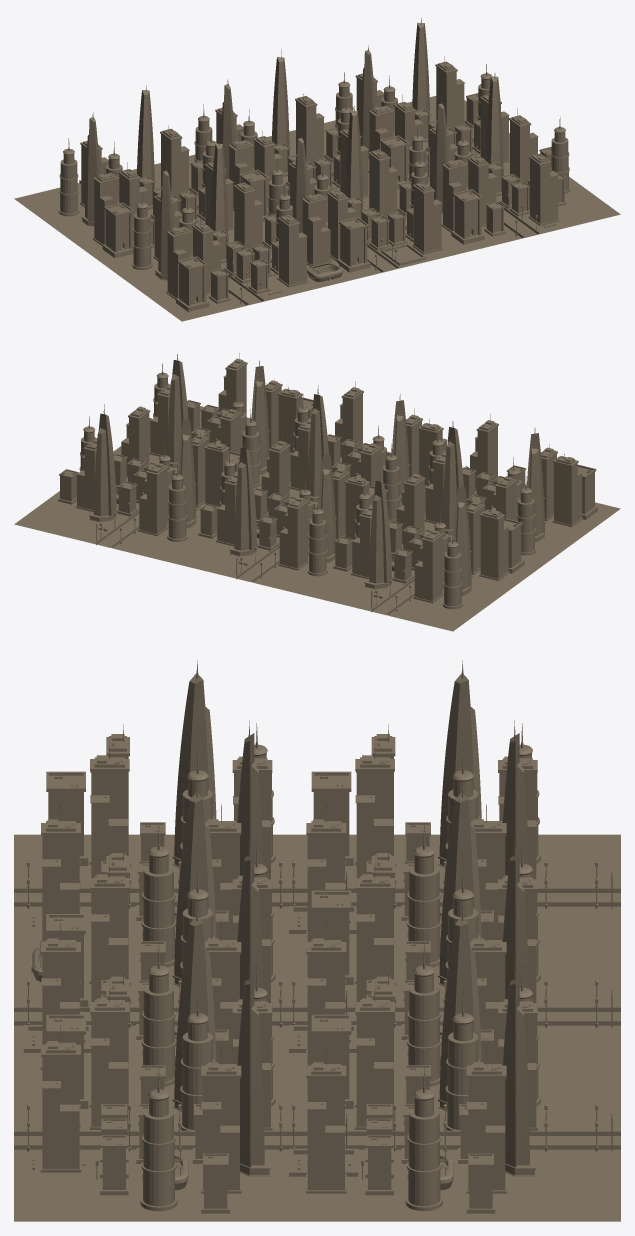
File: scenebackground.fbx
3 views of the same model, one above another, from view 1: azimuth 30°, elevation 25°; view 2: azimuth 150°, elevation 25°; view 3: azimuth 270°, elevation 25° (orthographic). The views are drawn at different scales.
Visible parts, largest first — view 1: pasted__pPlane1 (×6), pasted__pCube5 (×6), pasted__pCube6 (×6), pasted__skyscraper (×6), pasted__polySurface86 (×6), pasted__pCube12 (×6), pasted__skyscraper2 (×6), pasted__pCube2 (×6), pasted__pCylinder4 (×6), pasted__pCube4 (×5), pasted__polySurface85 (×3), pasted__polySurface79 (×3) (+3 smaller); view 2: pasted__pPlane1 (×4), pasted__skyscraper (×6), pasted__pCube12 (×6), pasted__pCube4 (×6), pasted__skyscraper2 (×6), pasted__pCube6 (×6), pasted__pCube5 (×6), pasted__pCylinder4 (×6), pasted__pCube2 (×6), pasted__polySurface83 (×3), pasted__polySurface84 (×3), pasted__polySurface86 (×2); view 3: pasted__pPlane1 (×6), pasted__pCube2 (×6), pasted__pCube6 (×6), pasted__skyscraper2 (×6), pasted__pCylinder3 (×6), pasted__skyscraper (×6), pasted__pCube5 (×6), pasted__polySurface86 (×6), pasted__pCube4 (×6), pasted__tower (×6), pasted__polySurface82 (×6), pasted__polySurface81 (×2) (+2 smaller).
Boxes of the visible parts, x1,y1,x2,y2 form: pasted__pPlane1 (×6): (14, 96, 620, 321); pasted__pCube5 (×6): (160, 56, 538, 251); pasted__pCube6 (×6): (204, 88, 559, 287); pasted__skyscraper (×6): (137, 18, 504, 242); pasted__polySurface86 (×6): (102, 135, 484, 311); pasted__pCube12 (×6): (93, 102, 467, 299); pasted__skyscraper2 (×6): (81, 45, 448, 280); pasted__pCube2 (×6): (118, 95, 496, 294); pasted__pCylinder4 (×6): (58, 72, 426, 269); pasted__pCube4 (×5): (80, 73, 457, 260); pasted__polySurface85 (×3): (209, 201, 505, 303); pasted__polySurface79 (×3): (234, 181, 529, 283); pasted__pPlane1 (×4): (14, 477, 620, 631); pasted__skyscraper (×6): (89, 354, 463, 589); pasted__pCube12 (×6): (204, 387, 583, 580); pasted__pCube4 (×6): (138, 404, 517, 603); pasted__skyscraper2 (×6): (178, 360, 545, 595); pasted__pCube6 (×6): (121, 353, 498, 544); pasted__pCube5 (×6): (75, 382, 446, 579); pasted__pCylinder4 (×6): (167, 409, 536, 609); pasted__pCube2 (×6): (192, 379, 557, 574); pasted__polySurface83 (×3): (117, 481, 413, 583); pasted__polySurface84 (×3): (58, 469, 353, 571); pasted__polySurface86 (×2): (504, 464, 597, 573); pasted__pPlane1 (×6): (14, 834, 620, 1221); pasted__pCube2 (×6): (89, 738, 395, 1129); pasted__pCube6 (×6): (40, 804, 346, 1193); pasted__skyscraper2 (×6): (172, 660, 481, 1111); pasted__pCylinder3 (×6): (140, 825, 442, 1211); pasted__skyscraper (×6): (237, 720, 535, 1176); pasted__pCube5 (×6): (201, 804, 506, 1193); pasted__polySurface86 (×6): (46, 771, 353, 1108); pasted__pCube4 (×6): (232, 756, 537, 1130); pasted__tower (×6): (180, 749, 480, 1130); pasted__polySurface82 (×6): (138, 822, 430, 1125); pasted__polySurface81 (×2): (100, 1135, 393, 1195).
Bounding box in the file's own units: 262 × 66.54 × 174.
